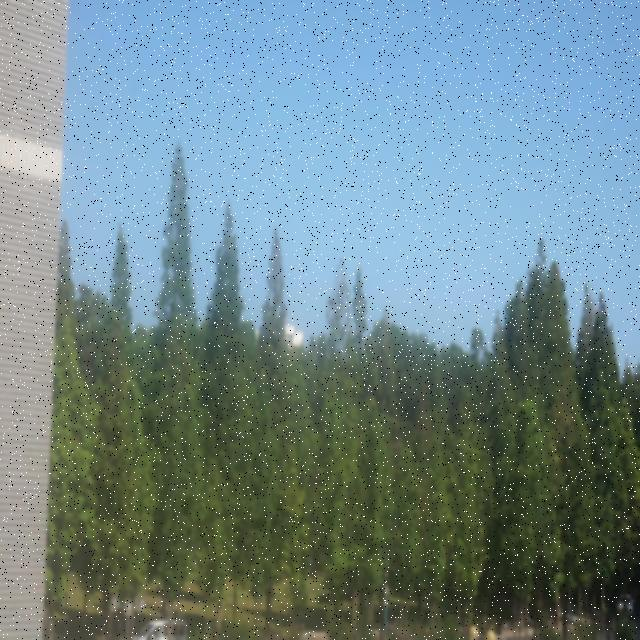UAV: (328, 296, 337, 308)
